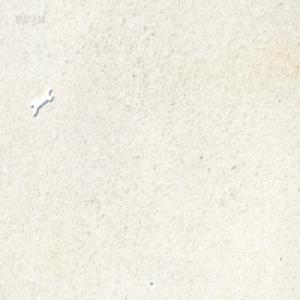Wrench: (31, 86, 54, 117)
